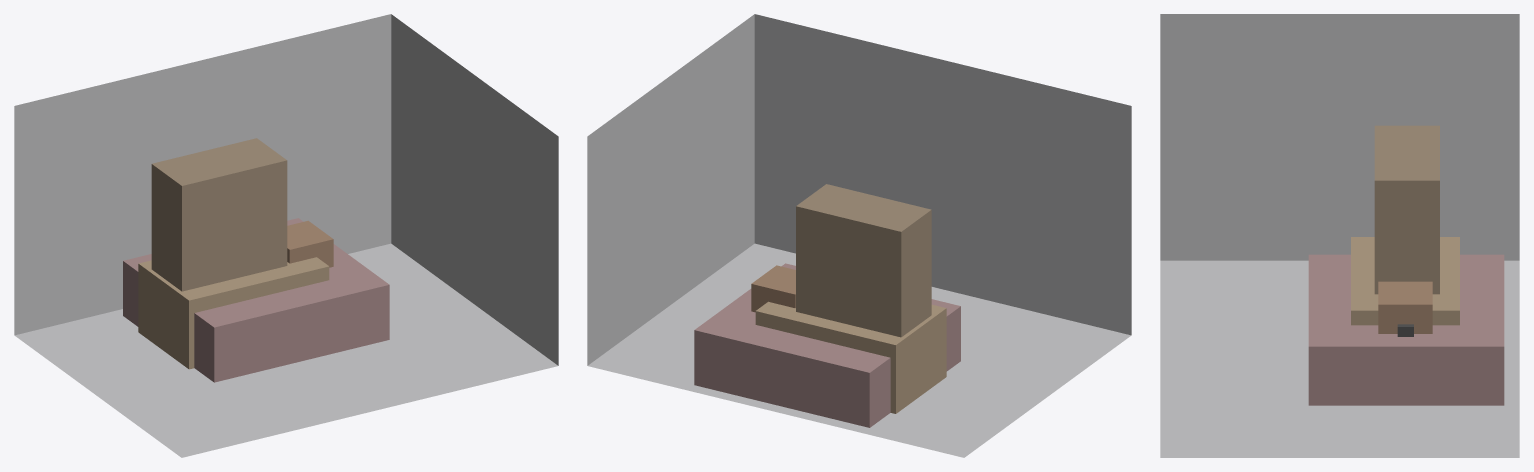
Rendered from optimised_layout.glb.
3 renders of one model, left to right at view 1: azimuth 30°, elevation 25°; view 2: azimuth 150°, elevation 25°; view 3: azimuth 270°, elevation 25°, orthographic. The views are drawn at different scales.
Visible parts, largest first — view 1: room, wardrobe, bed, dining table, chair; view 2: room, wardrobe, bed, dining table, chair; view 3: room, bed, wardrobe, dining table, chair.
Boxes of the visible parts, left/top/right/bottom form: room: left=14, top=14, right=558, bottom=457; wardrobe: left=151, top=138, right=287, bottom=291; bed: left=123, top=218, right=389, bottom=382; dining table: left=138, top=257, right=329, bottom=369; chair: left=287, top=220, right=333, bottom=267; room: left=587, top=14, right=1131, bottom=457; wardrobe: left=796, top=184, right=931, bottom=337; bed: left=694, top=263, right=960, bottom=427; dining table: left=755, top=301, right=946, bottom=413; chair: left=751, top=265, right=795, bottom=312; room: left=1160, top=14, right=1519, bottom=457; bed: left=1308, top=254, right=1504, bottom=405; wardrobe: left=1374, top=125, right=1439, bottom=294; dining table: left=1351, top=237, right=1459, bottom=325; chair: left=1378, top=281, right=1432, bottom=333.
Size of the model in its own units: 4.3 by 2.5 by 3.3.
